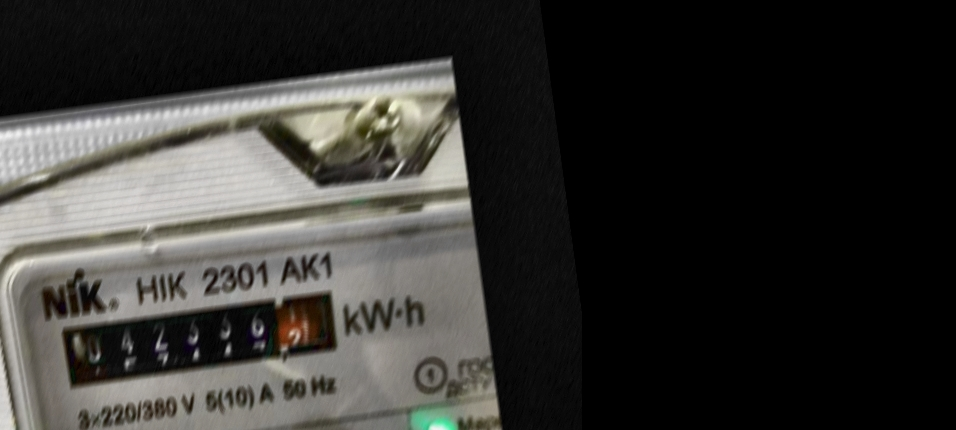0: (82, 333, 101, 363)
1: (282, 301, 297, 324)
2: (149, 320, 168, 351), (284, 326, 302, 346)
3: (212, 309, 231, 340), (180, 315, 199, 345)
4: (115, 324, 135, 355)
6: (246, 306, 266, 338)
screen: (47, 277, 351, 397)
